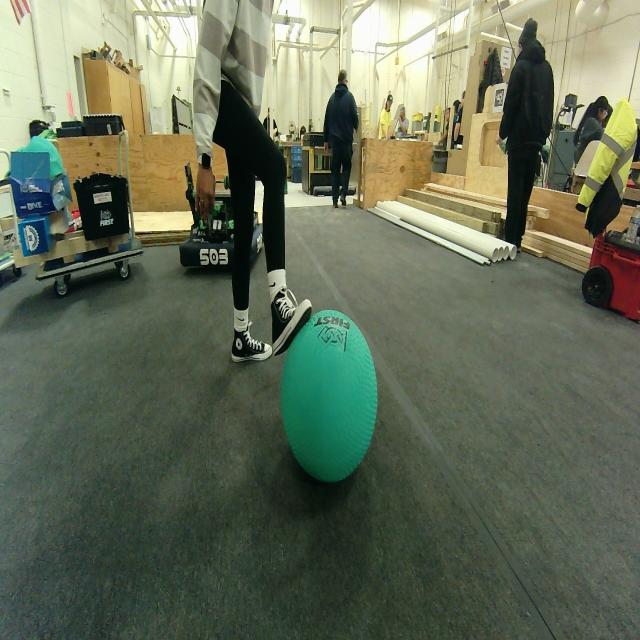algae: (281, 310, 377, 482)
